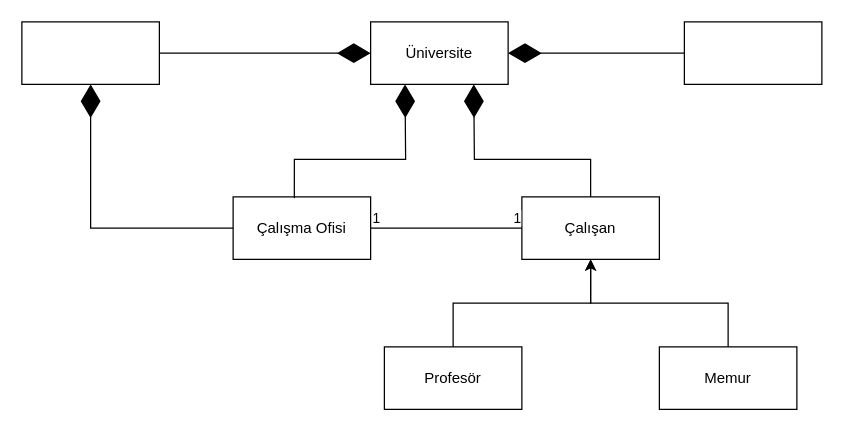
This 844x431 diagram has some shape labels left out. Each missing label, with the centre of its shape:
"Departman" goes at pixel 90 52.
"Sınıf" goes at pixel 752 52.
